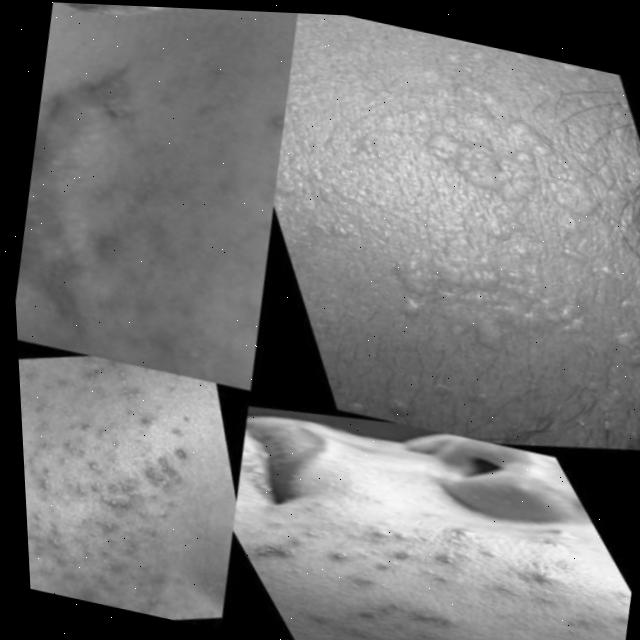Acne: (390, 88, 640, 438), (288, 444, 575, 640), (20, 390, 189, 617), (9, 61, 147, 281)
